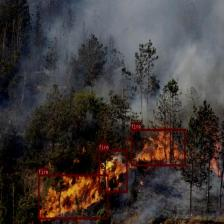fire: (38, 174, 109, 219), (131, 128, 186, 166), (98, 150, 128, 192)
